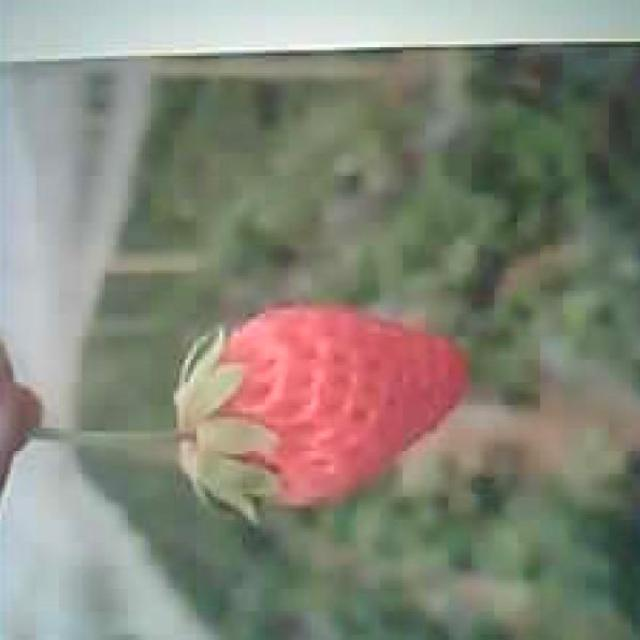Healthy Fruit: (178, 299, 474, 516)
